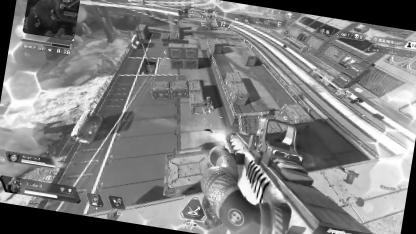Target: (202, 96, 214, 112)
